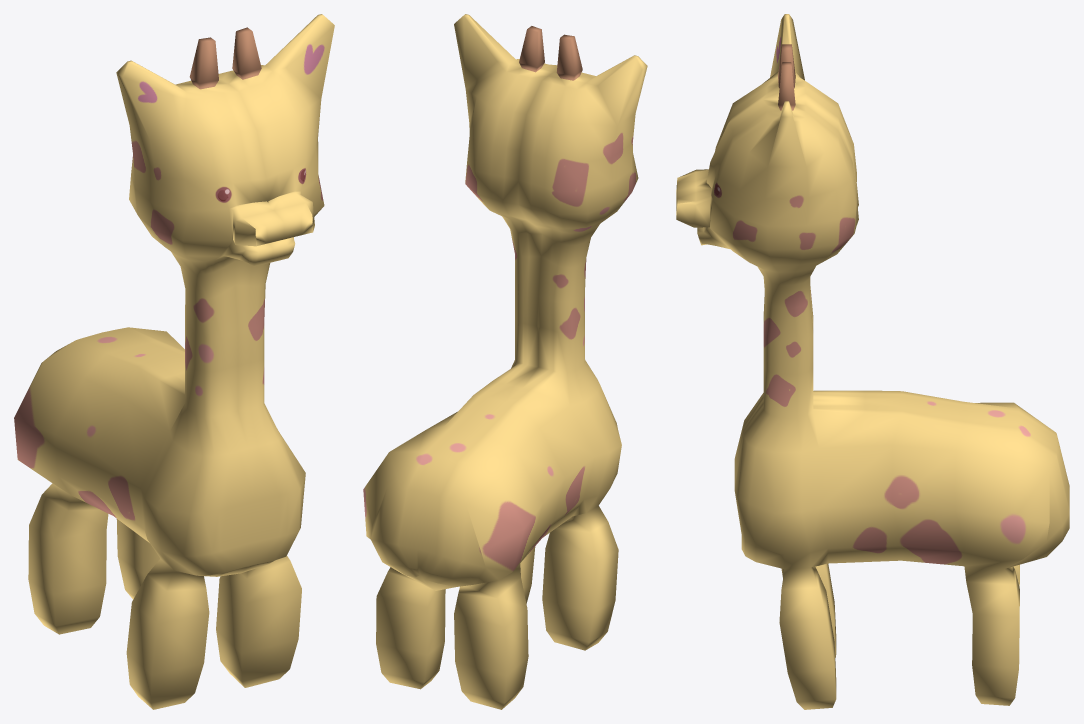
The model's file is girafe.fbx.
The picture shows the model from 3 angles, left to right: view 1: azimuth 30°, elevation 25°; view 2: azimuth 150°, elevation 25°; view 3: azimuth 270°, elevation 25°; orthographic projection. The views are drawn at different scales.
Visible parts, largest first — view 1: Cube; view 2: Cube; view 3: Cube.
Part boxes in pixels (x1,y1,x2,y2): Cube: (14,14,334,709); Cube: (363,14,647,709); Cube: (676,14,1069,709).
Bounding box in the file's own units: 0.3229 × 0.9711 × 0.5521.
